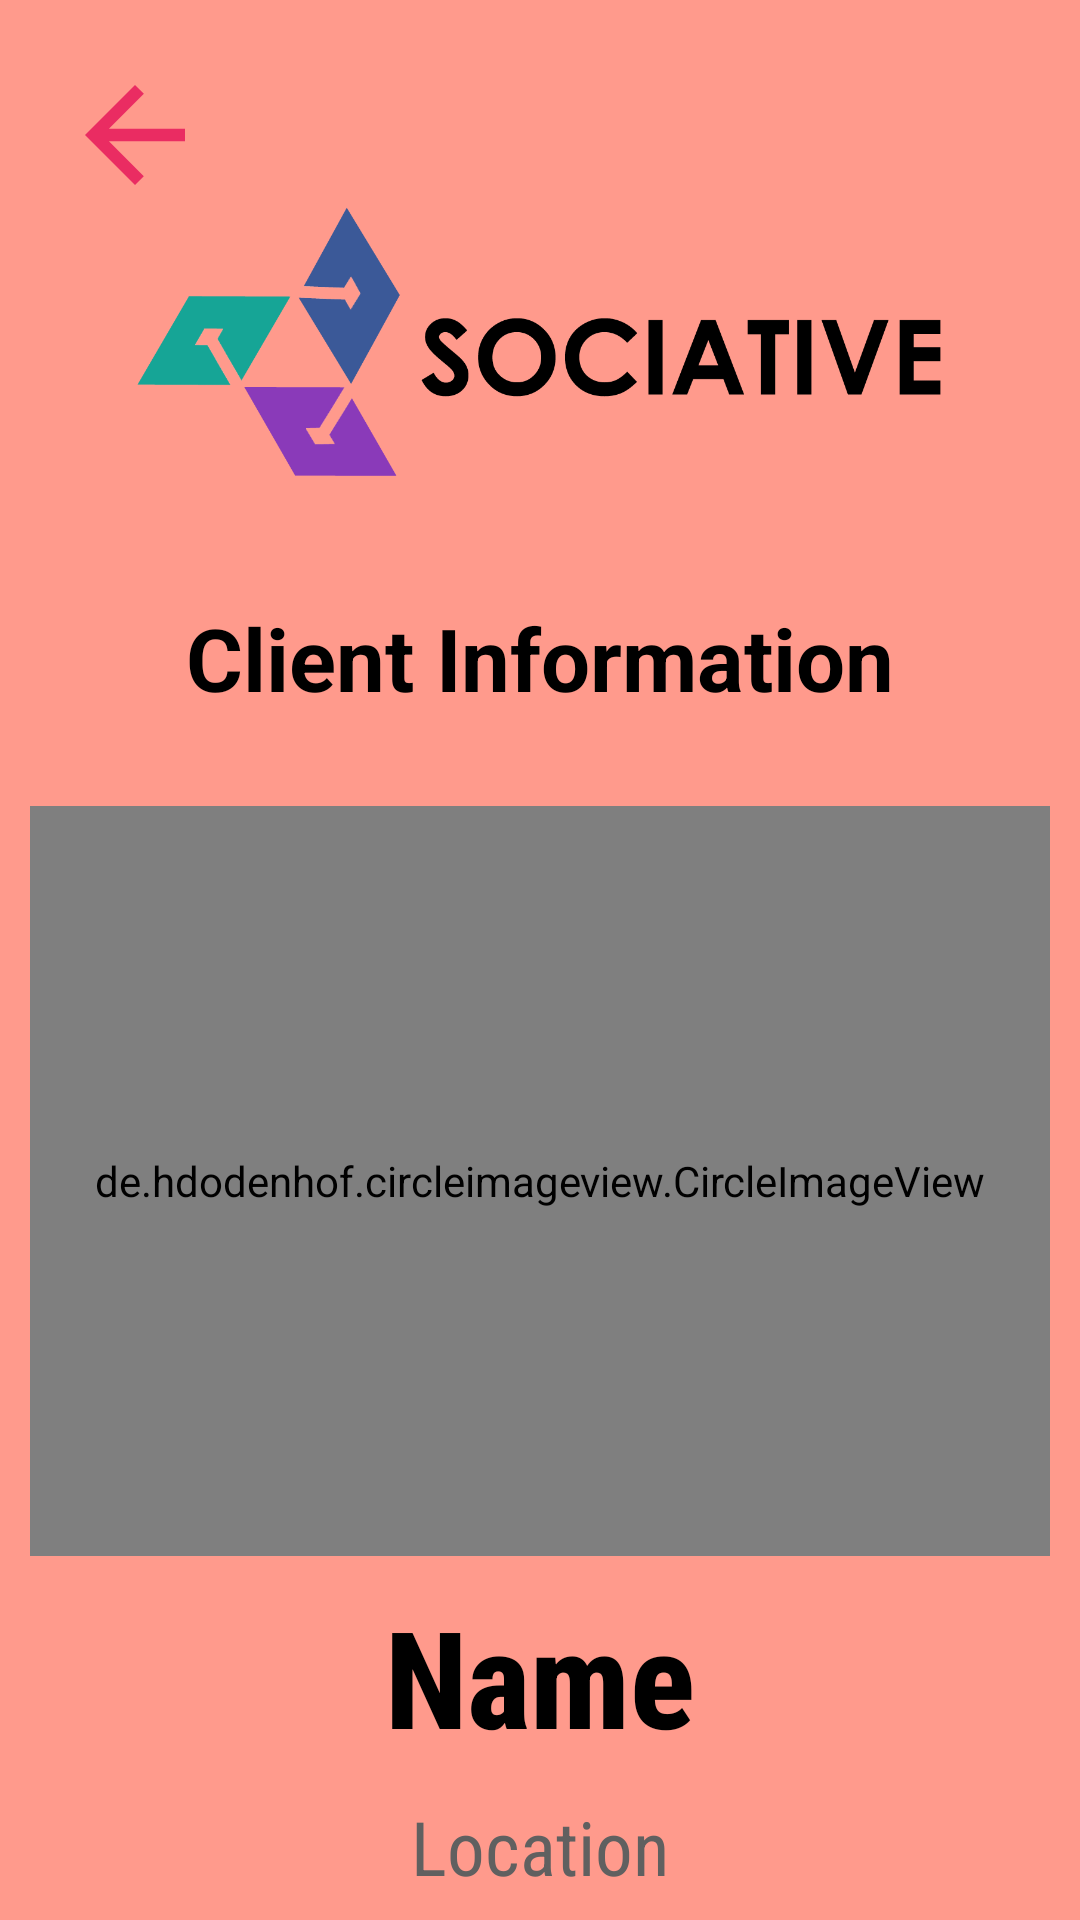

Icons on this 1080px×1920px Android screen, each with its box as (x1, y1, x2, y2):
back arrow: (85, 85, 185, 185)
